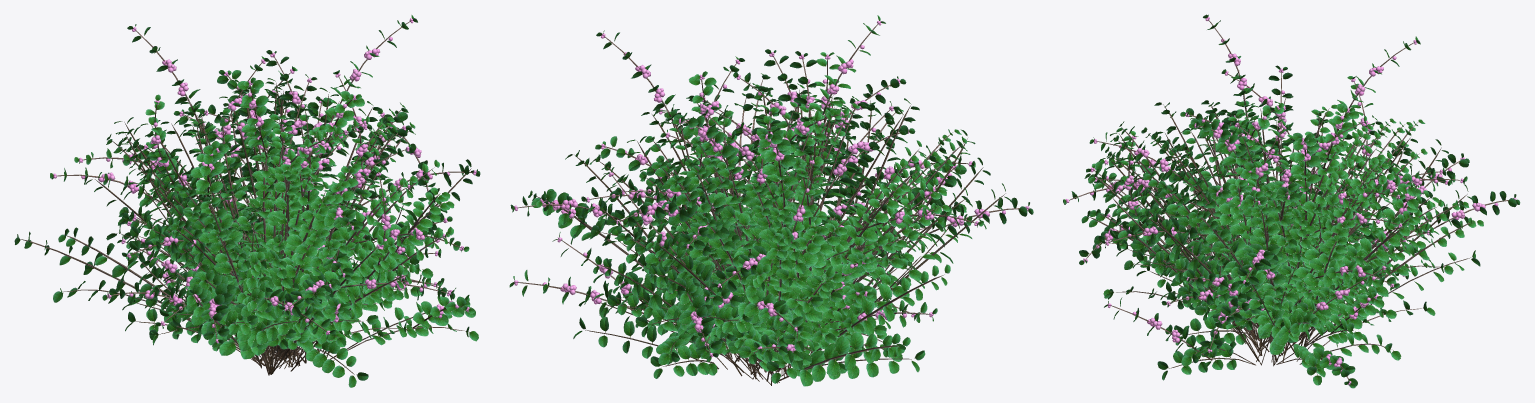
The model's file is instanced.gltf.
The picture shows the model from 3 angles, left to right: view 1: azimuth 30°, elevation 25°; view 2: azimuth 150°, elevation 25°; view 3: azimuth 270°, elevation 25°; orthographic projection. The views are drawn at different scales.
Parts seen in each view (by area): view 1: branch1.050, branch1.161, branch1.157, branch1.165, branch1.184, branch1.233, branch1.193, branch1.228, branch1.084, branch1.230, branch1.094, branch1.196 (+79 smaller); view 2: branch1.102, branch1.165, branch1.206, branch1.070, branch1.171, branch1.059, branch1.137, branch1.178, branch1.043, branch1.057, branch3.082, branch1.139 (+77 smaller); view 3: branch1.155, branch1.154, branch1.089, branch1.091, branch1.171, branch1.101, branch1.219, branch1.225, branch1.014, branch1.194, branch1.097, branch1.207 (+67 smaller).
Boxes of the visible parts, x1=… form: branch1.050: x1=237, y1=77, x2=281, y2=158; branch1.161: x1=271, y1=235, x2=385, y2=374; branch1.157: x1=403, y1=296, x2=475, y2=336; branch1.165: x1=58, y1=227, x2=264, y2=365; branch1.184: x1=190, y1=141, x2=228, y2=194; branch1.233: x1=305, y1=340, x2=368, y2=387; branch1.193: x1=199, y1=283, x2=236, y2=347; branch1.228: x1=236, y1=281, x2=335, y2=339; branch1.084: x1=186, y1=284, x2=259, y2=365; branch1.230: x1=264, y1=264, x2=415, y2=365; branch1.094: x1=323, y1=187, x2=450, y2=354; branch1.196: x1=264, y1=228, x2=329, y2=375; branch1.102: x1=778, y1=331, x2=910, y2=386; branch1.165: x1=816, y1=264, x2=950, y2=350; branch1.206: x1=756, y1=128, x2=798, y2=186; branch1.070: x1=679, y1=294, x2=722, y2=361; branch1.171: x1=593, y1=256, x2=743, y2=372; branch1.059: x1=737, y1=289, x2=803, y2=336; branch1.137: x1=672, y1=114, x2=749, y2=179; branch1.178: x1=531, y1=189, x2=605, y2=240; branch1.043: x1=610, y1=201, x2=711, y2=226; branch1.057: x1=777, y1=183, x2=909, y2=371; branch3.082: x1=650, y1=343, x2=718, y2=378; branch1.139: x1=694, y1=212, x2=751, y2=296; branch1.155: x1=1306, y1=260, x2=1399, y2=290; branch1.154: x1=1298, y1=237, x2=1347, y2=345; branch1.089: x1=1325, y1=286, x2=1384, y2=343; branch1.091: x1=1289, y1=132, x2=1321, y2=183; branch1.171: x1=1295, y1=217, x2=1483, y2=354; branch1.101: x1=1188, y1=119, x2=1250, y2=170; branch1.219: x1=1188, y1=211, x2=1294, y2=352; branch1.225: x1=1316, y1=211, x2=1420, y2=314; branch1.014: x1=1237, y1=243, x2=1282, y2=286; branch1.194: x1=1089, y1=208, x2=1248, y2=343; branch1.097: x1=1137, y1=208, x2=1282, y2=355; branch1.207: x1=1315, y1=103, x2=1359, y2=173.
Size of the model in its own units: 42.29 by 32.11 by 43.77.
1 material, 1 textured.
